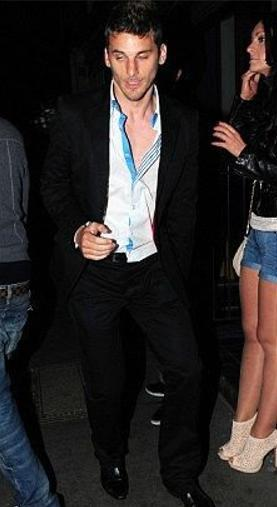Drunk: (108, 29, 158, 97)
